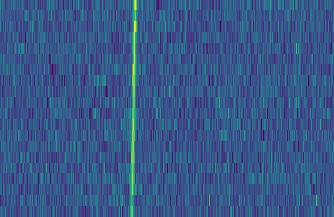signal: (127, 0, 139, 217)
